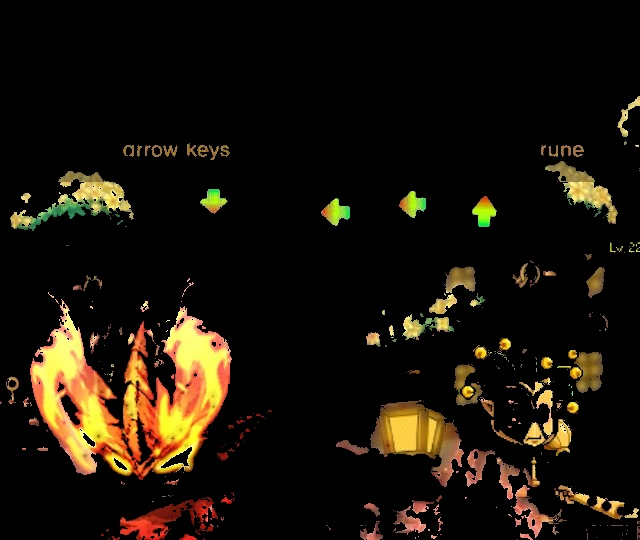rune_box: (162, 160, 581, 256)
